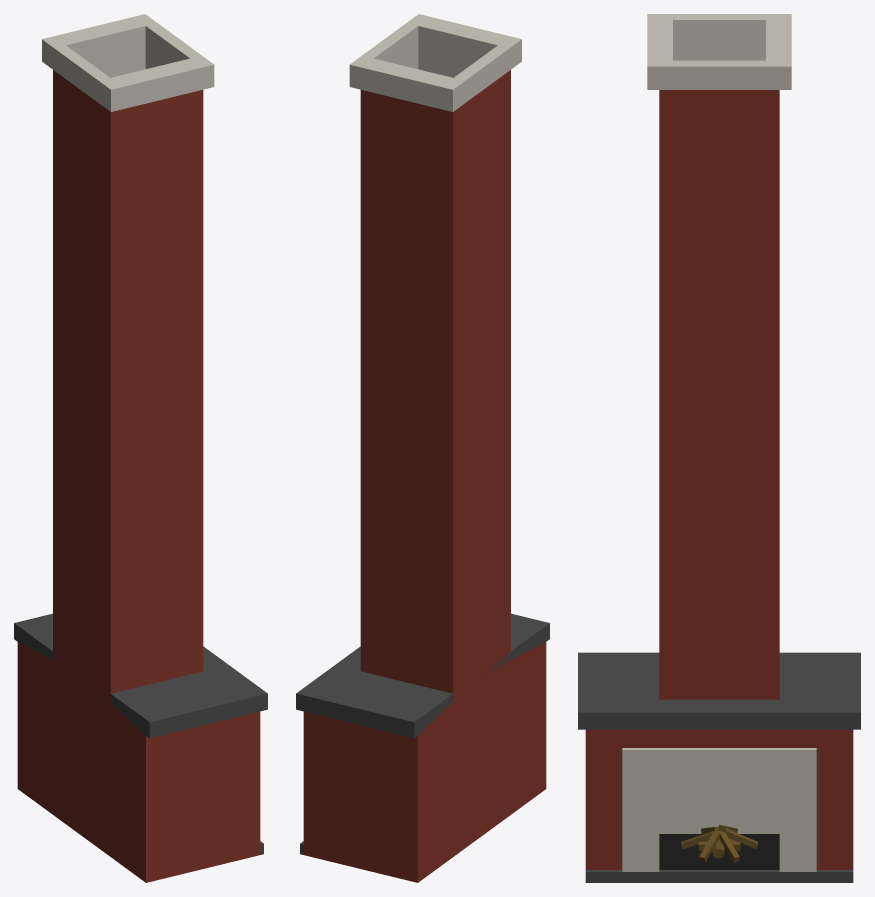
File: firePlace.fbx
3 views of the same model, side by side, from view 1: azimuth 30°, elevation 25°; view 2: azimuth 150°, elevation 25°; view 3: azimuth 270°, elevation 25° (orthographic). The views are drawn at different scales.
Parts seen in each view (by area): view 1: fireplace.001, fireplace; view 2: fireplace.001, fireplace; view 3: fireplace.001, fireplace, wood.
Part boxes in pixels (bbox=[...]): fireplace.001: bbox=[42, 14, 214, 748]; fireplace: bbox=[14, 613, 267, 882]; fireplace.001: bbox=[349, 14, 521, 748]; fireplace: bbox=[296, 613, 549, 882]; fireplace.001: bbox=[647, 14, 791, 699]; fireplace: bbox=[578, 652, 860, 882]; wood: bbox=[681, 825, 757, 862].
Bounding box in the file's own units: 167 × 997 × 317.
